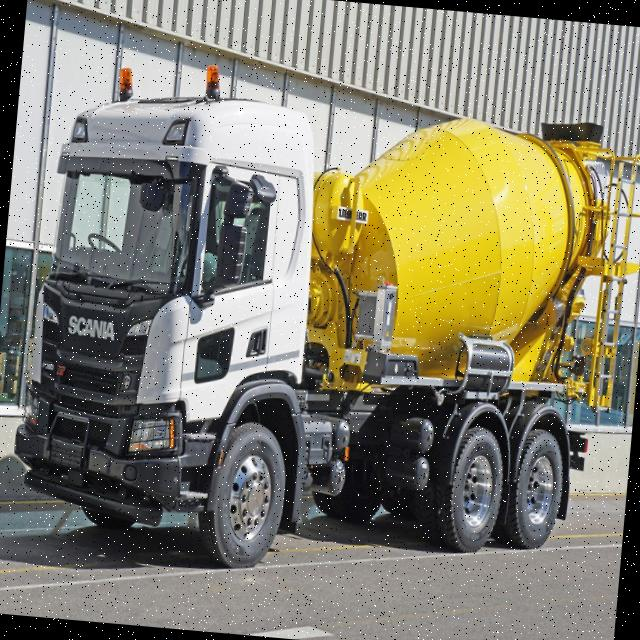Mixer Truck: (5, 76, 640, 601)
